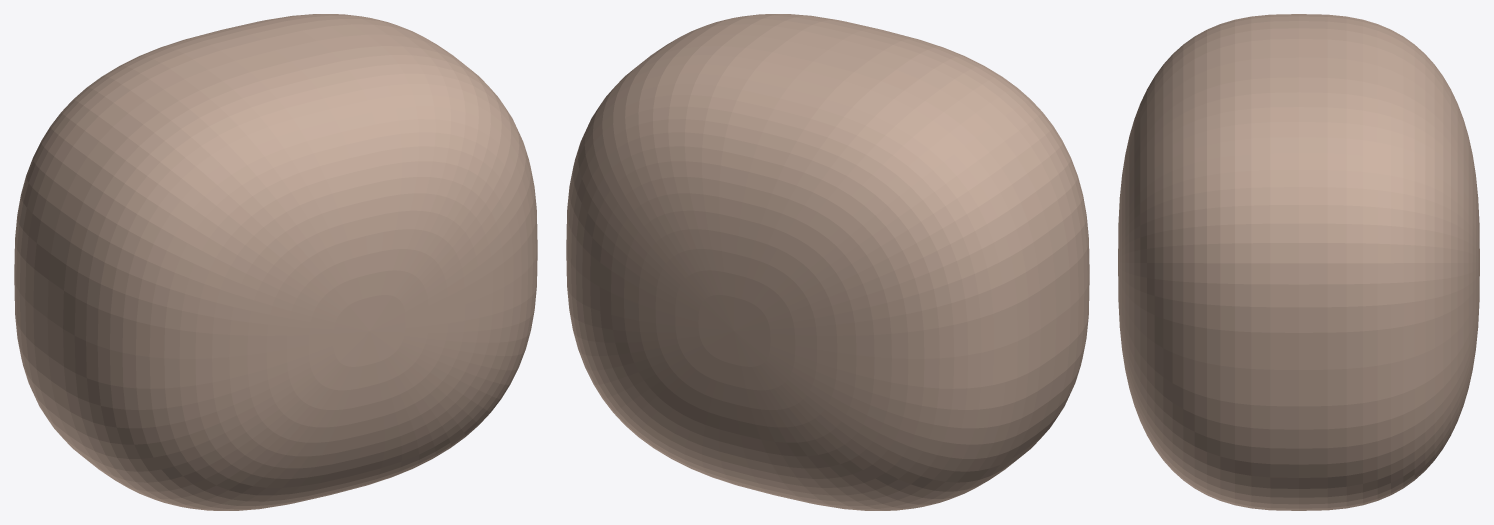
File: bladder.glb
The picture shows the model from 3 angles, left to right: view 1: azimuth 30°, elevation 25°; view 2: azimuth 150°, elevation 25°; view 3: azimuth 270°, elevation 25°; orthographic projection. The views are drawn at different scales.
Parts seen in each view (by area): view 1: bladder; view 2: bladder; view 3: bladder.
Boxes of the visible parts, bbox=[...] form: bladder: bbox=[14, 14, 537, 510]; bladder: bbox=[566, 14, 1089, 510]; bladder: bbox=[1118, 14, 1479, 510].
Bounding box in the file's own units: 0.09 × 0.08 × 0.064.
